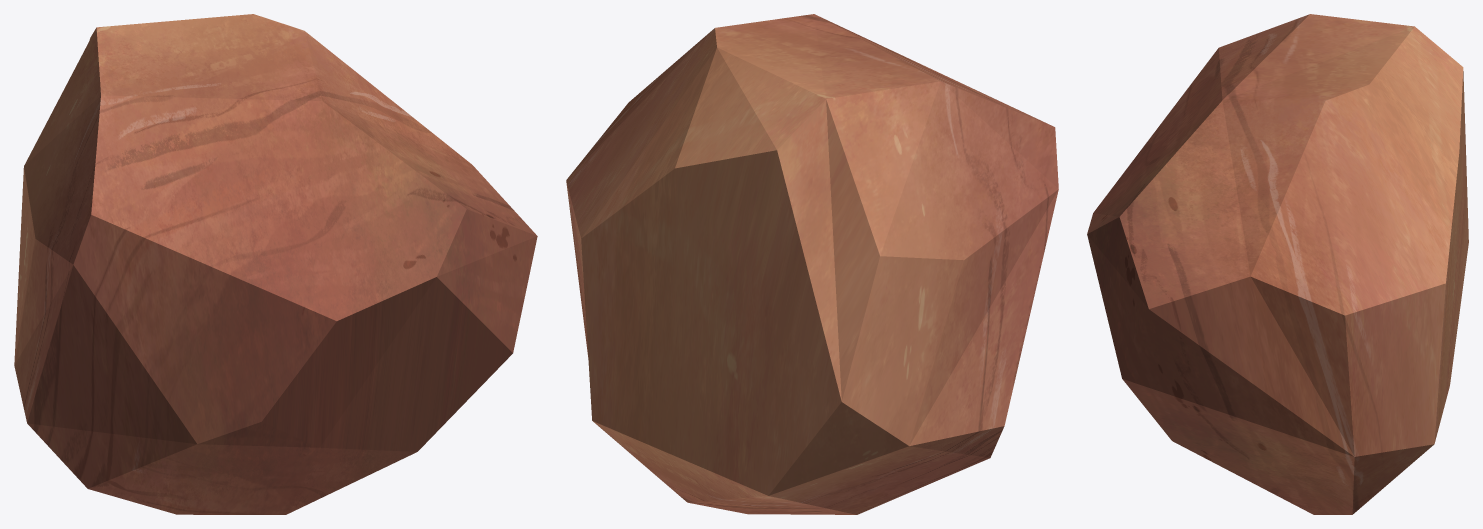
The model's file is rock_2_012.fbx.
The picture shows the model from 3 angles, left to right: view 1: azimuth 30°, elevation 25°; view 2: azimuth 150°, elevation 25°; view 3: azimuth 270°, elevation 25°; orthographic projection. The views are drawn at different scales.
Parts seen in each view (by area): view 1: rock 2.012; view 2: rock 2.012; view 3: rock 2.012.
Part boxes in pixels (<box>): rock 2.012: <box>14,14,537,514</box>; rock 2.012: <box>566,14,1058,514</box>; rock 2.012: <box>1087,14,1468,514</box>.
Size of the model in its own units: 170 by 186 by 150.
